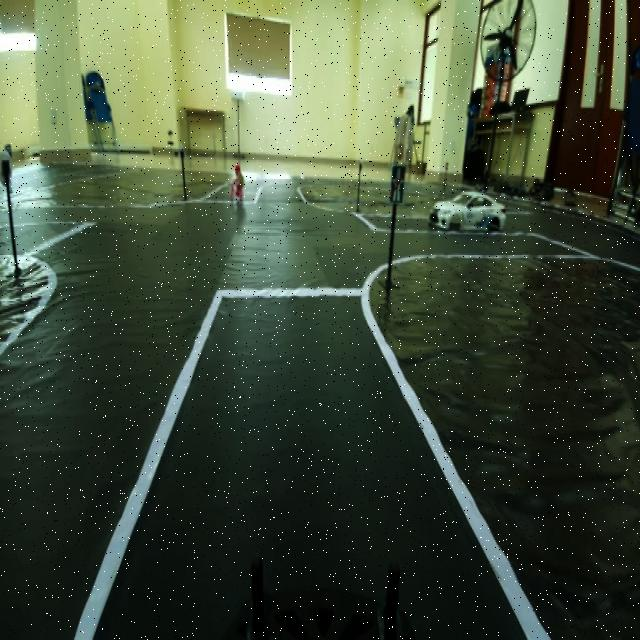highway_exit: (387, 162, 408, 207)
